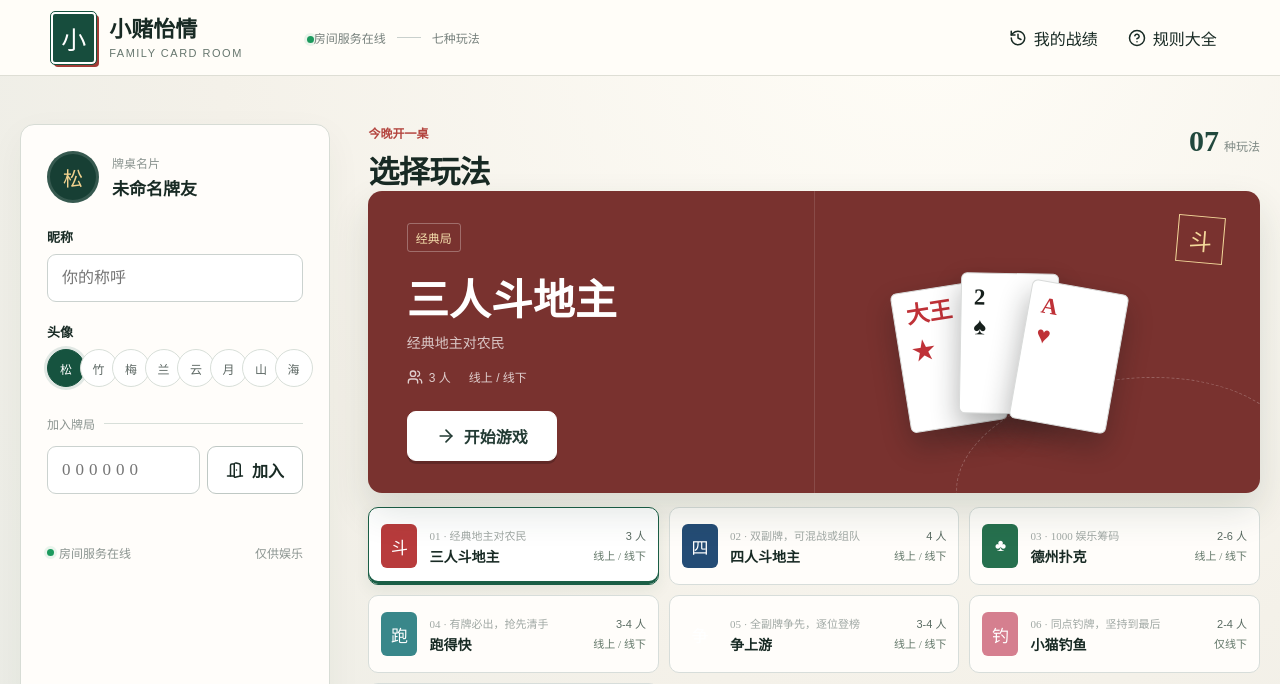
Test: 创建房间 › 房间中的规则面板可以切换到其他玩法
Click the button "开始游戏": (482, 436) [407,411,557,461]
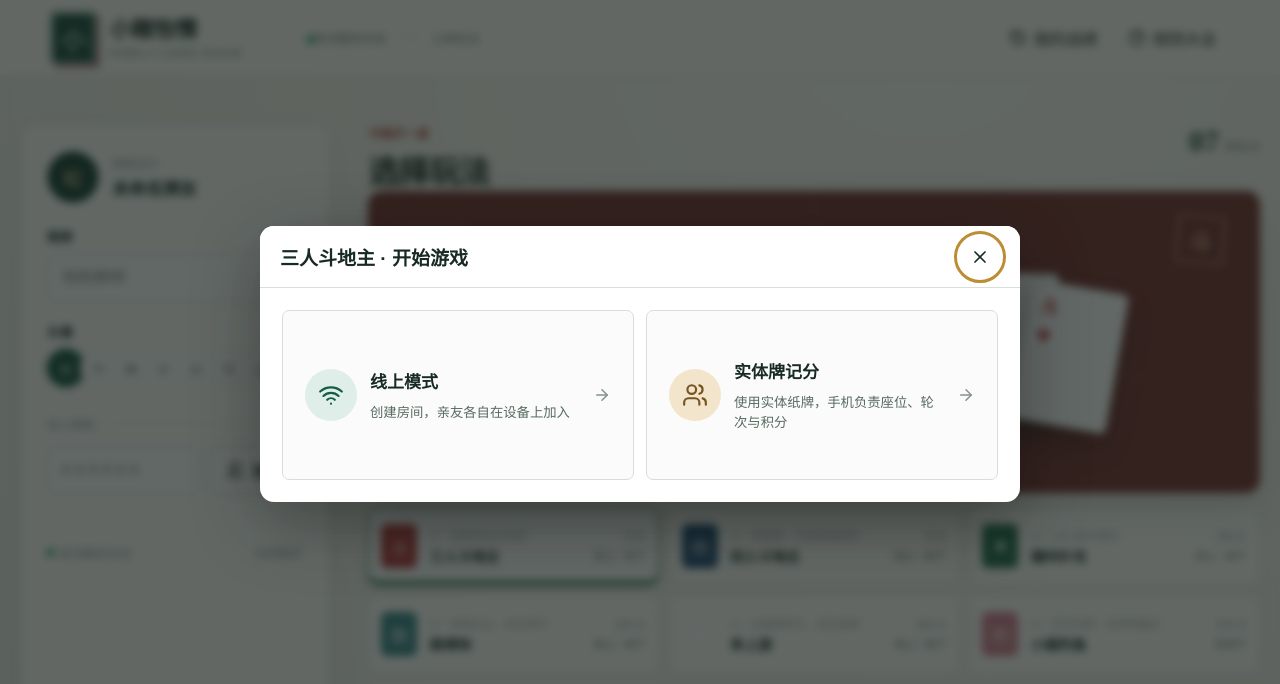
Click the button "线上模式 创建房间，亲友各自在设备上加入": (331, 395) [282,310,634,480]
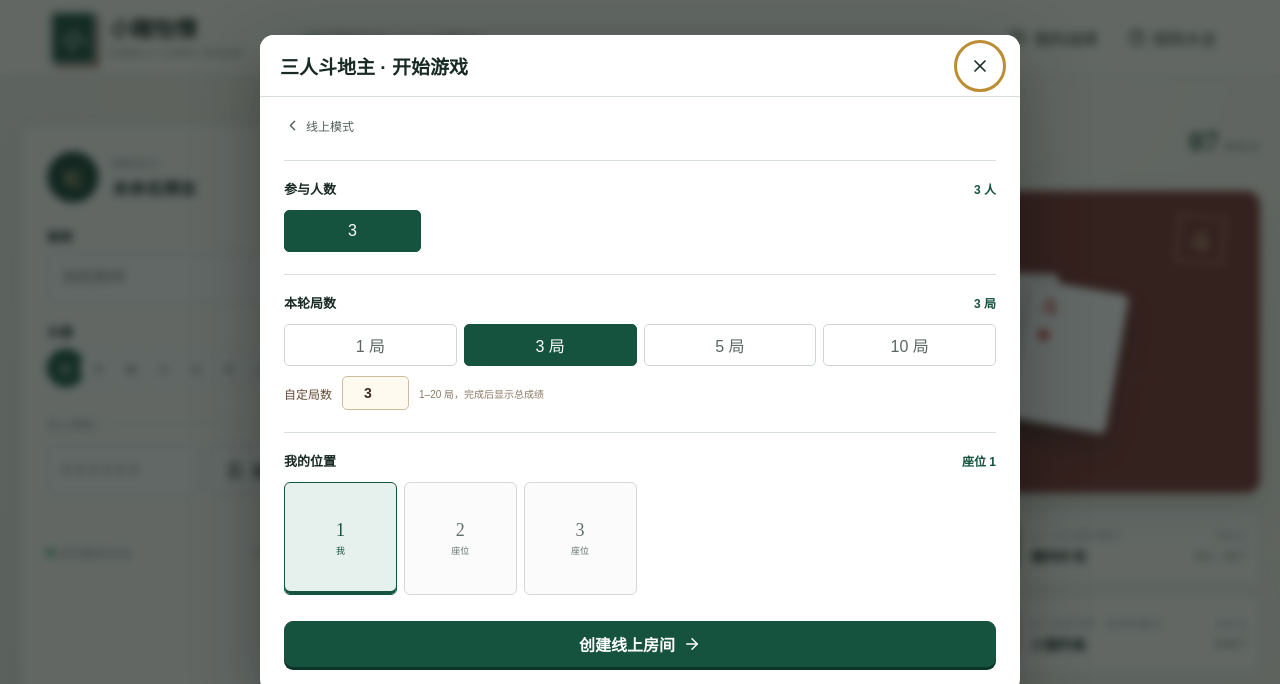
Click the button "创建线上房间": (640, 644) [284,621,996,667]
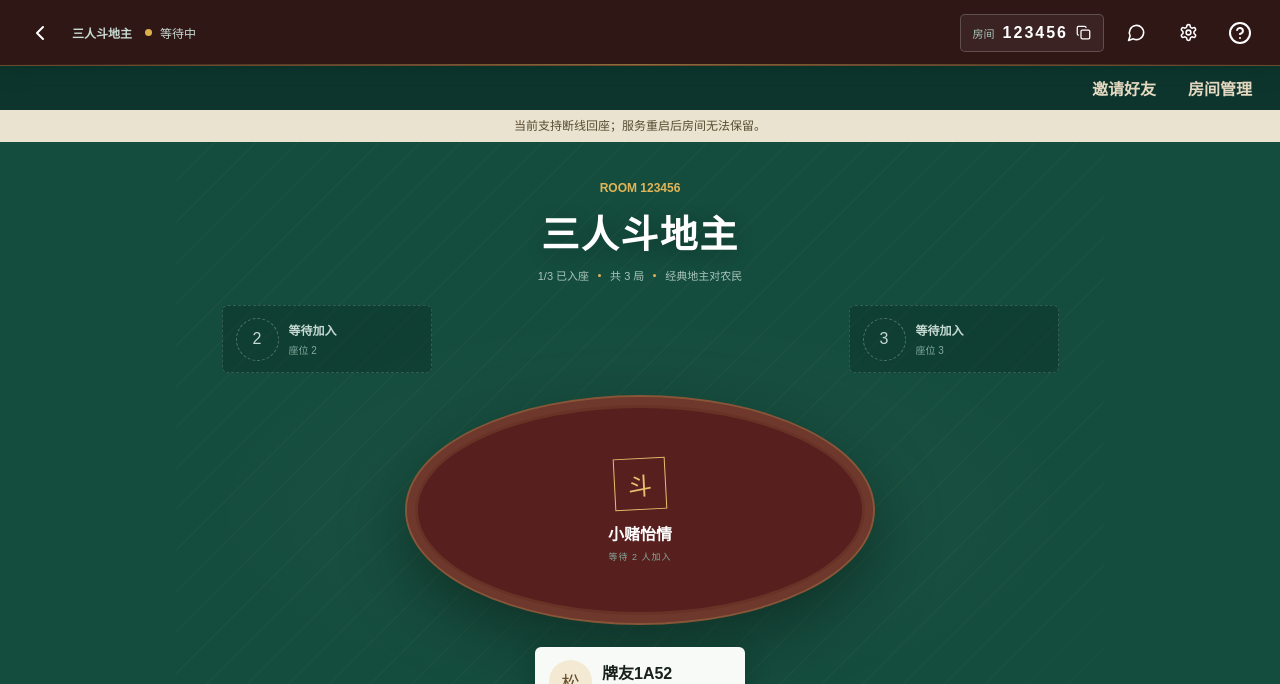
Click the button named "查看规则": (1240, 32) [1220,12,1260,52]
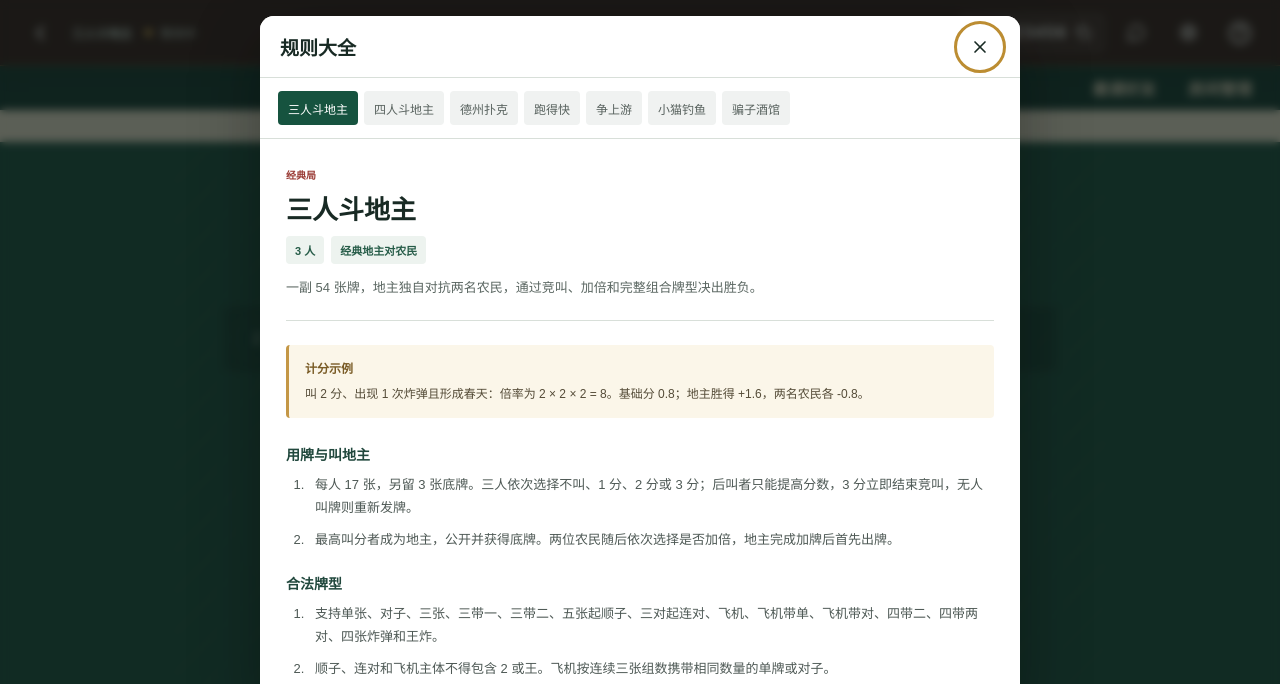
Click the button "德州扑克": (484, 108) [450,91,518,125]
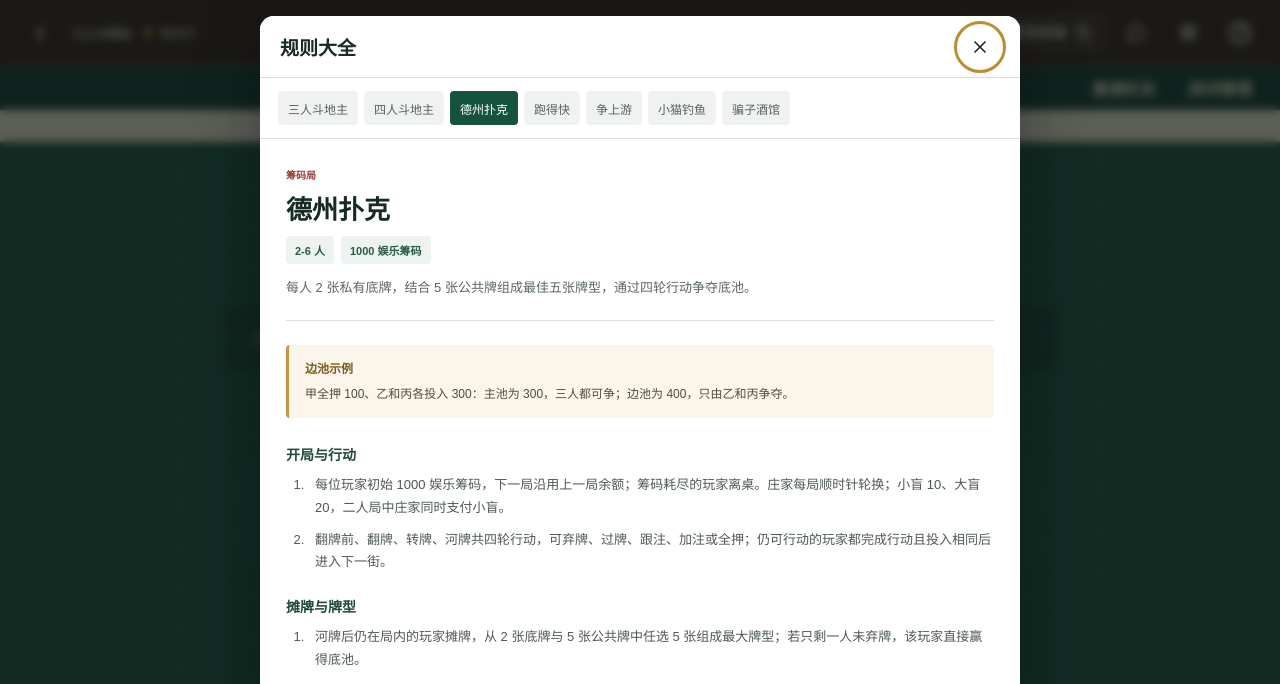
Now the dialog with class "modal" shows "1000 娱乐筹码", box [350,245,422,257]
